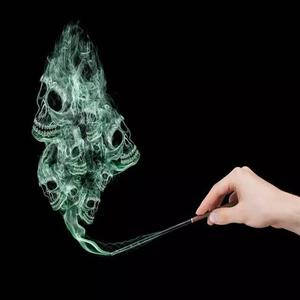cigarette: (190, 197, 240, 227)
